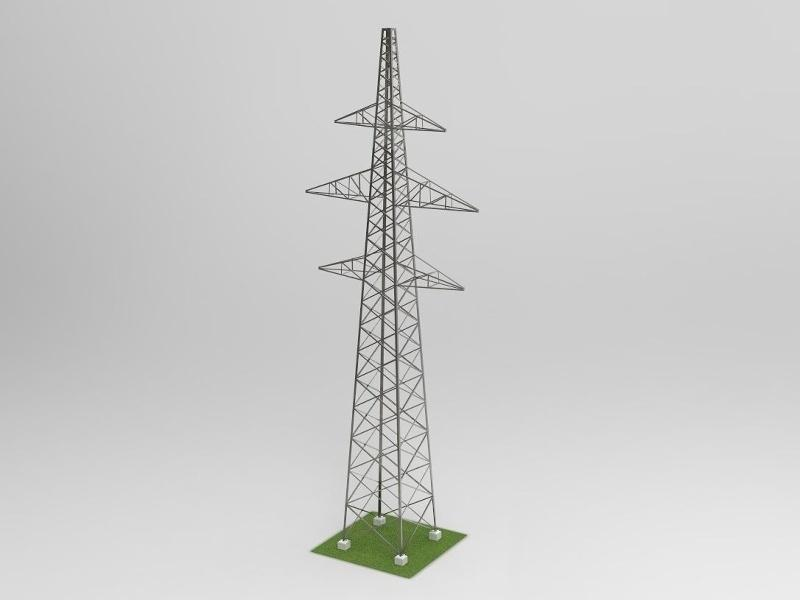power_tower: (297, 17, 483, 568)
